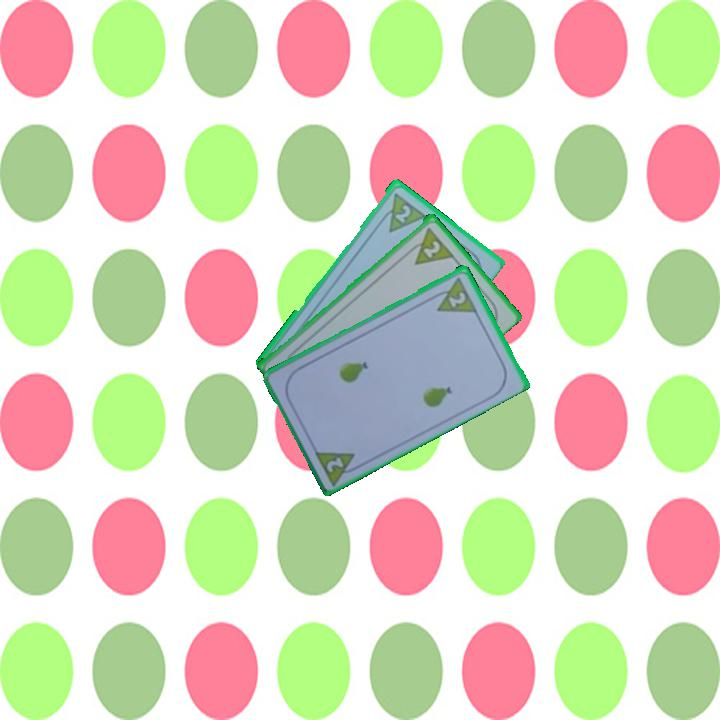2p: (403, 223, 456, 268), (311, 446, 365, 487), (428, 273, 480, 315), (391, 201, 414, 225)
